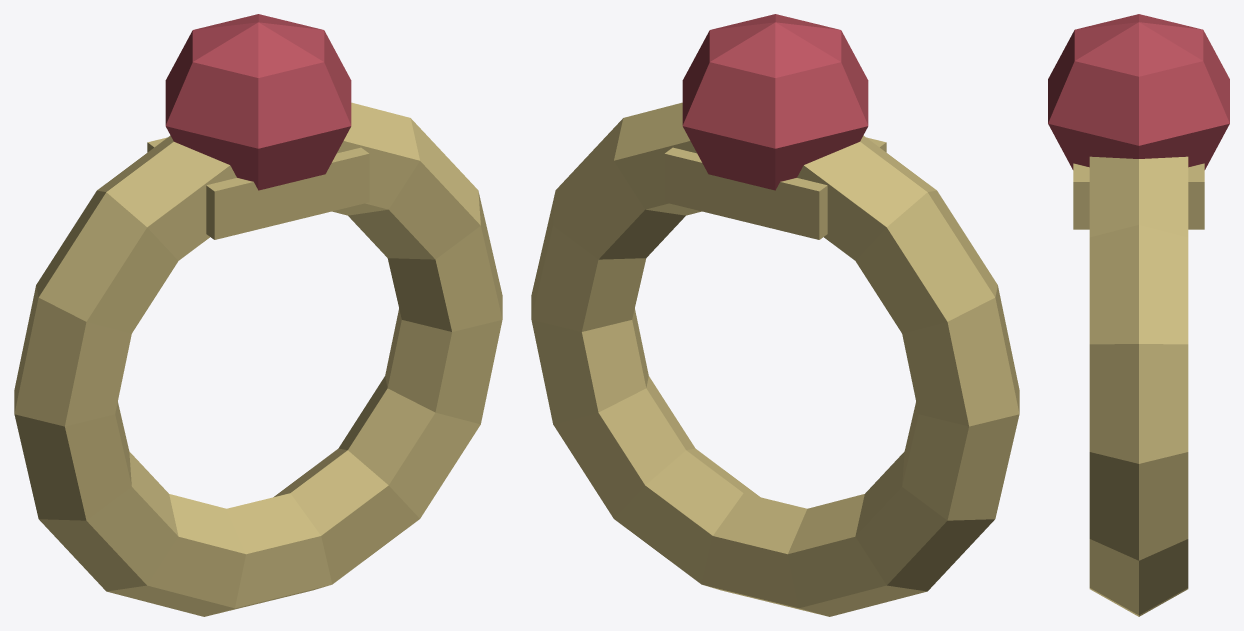
File: signet_ring.glb
3 views of the same model, side by side, from view 1: azimuth 30°, elevation 25°; view 2: azimuth 150°, elevation 25°; view 3: azimuth 270°, elevation 25° (orthographic). The views are drawn at different scales.
Visible parts, largest first — view 1: signet_ring; view 2: signet_ring; view 3: signet_ring.
Part boxes in pixels (x1,y1,x2,y2): signet_ring: (14, 14, 502, 616); signet_ring: (531, 14, 1019, 616); signet_ring: (1048, 14, 1229, 616).
Bounding box in the file's own units: 0.126 × 0.1434 × 0.0416.
